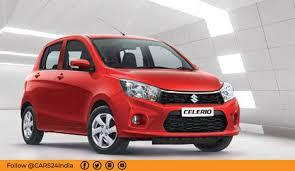windshield: (87, 36, 200, 71)
